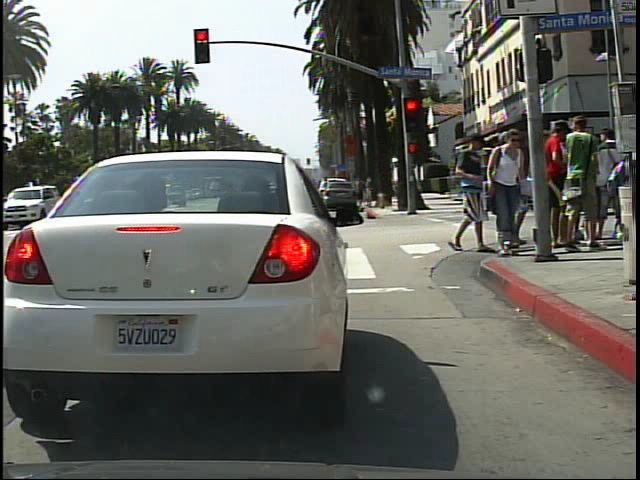person: (481, 127, 538, 259)
